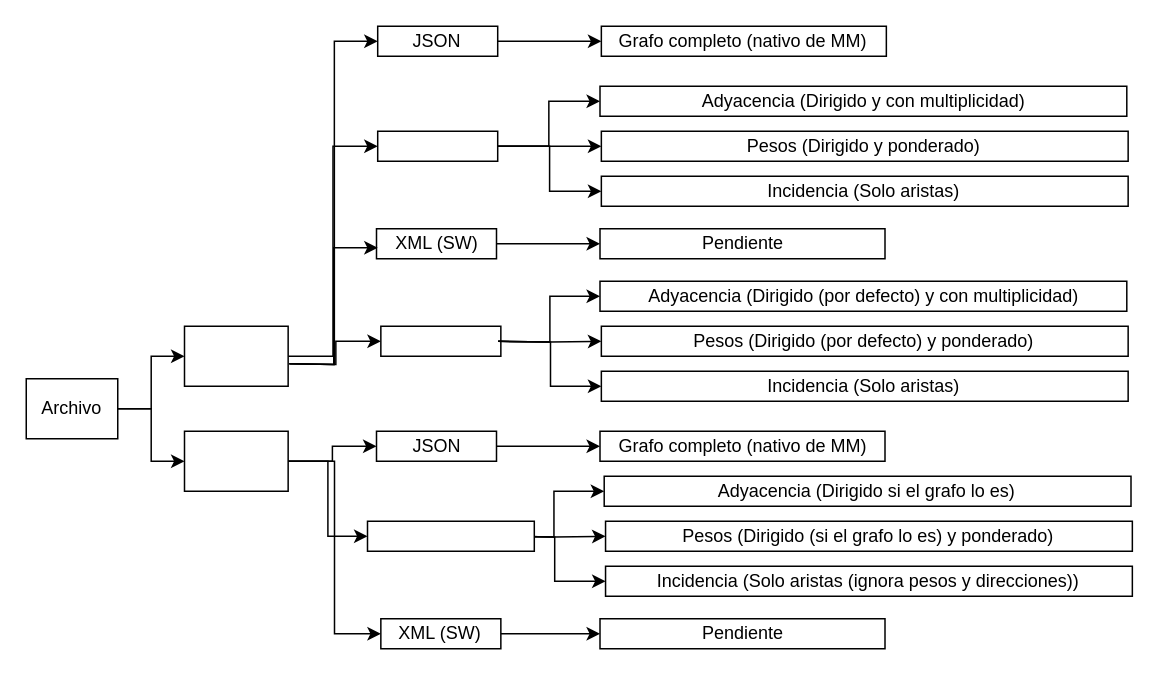
Some shapes in this 1160 by 675 pixel diagram are drawn without their labels. The box of each missing label's shape, as (x1, y1, x2, y2) in pixels:
A mano: (376, 130, 498, 161)
CSV: (379, 325, 501, 356)
CSV (des matriz): (366, 520, 534, 551)
Exportar: (183, 430, 288, 491)
Importar: (183, 325, 288, 386)
